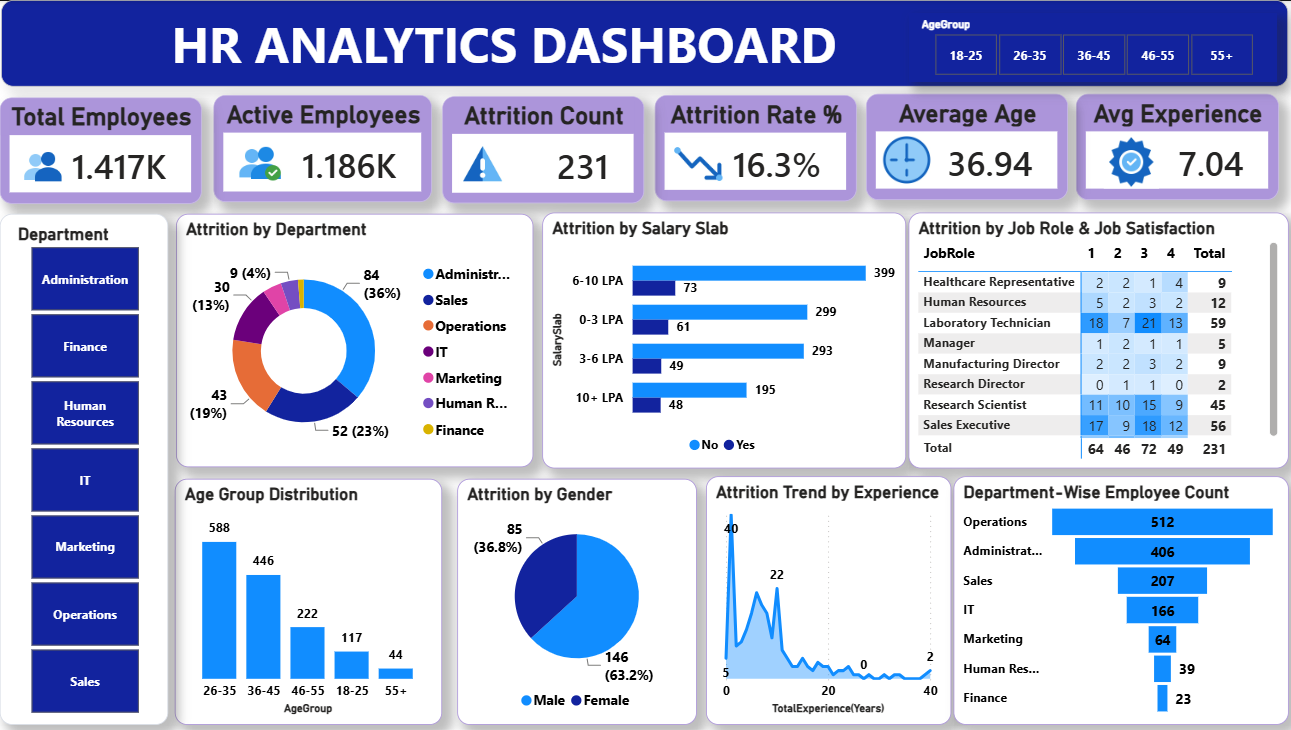

What the dashboard file says about the page in this screenshot:
{"tool":"powerbi","page":{"name":"Page 1","canvas":[1280,720],"ordinal":0},"visuals":[{"type":"textbox","box":[10,0,1259,85],"z":0},{"type":"cardVisual","title":"Avg Experience","fields":{"Data":["Avg(HR_Analytics-4.YearsatCompany)"]},"box":[1061.4,91.7,198.1,103.9],"z":1000},{"type":"cardVisual","title":"Attrition Rate %","fields":{"Data":["select","HR_Analytics-4.Attrition Rate %"]},"box":[649,92.7,197.5,103.8],"z":2000},{"type":"cardVisual","title":"Average Age","fields":{"Data":["Avg(HR_Analytics-4.Age)"]},"box":[855.9,91.8,197.5,103.8],"z":3000},{"type":"cardVisual","title":"Active Employees","fields":{"Data":["CountNonNull(HR_Analytics-4.EmployeeCount)"]},"box":[217.8,92.7,213.8,105],"z":4000},{"type":"cardVisual","title":"Total Employees","fields":{"Data":["CountNonNull(HR_Analytics-4.EmpID)"]},"box":[9,95.2,197.5,103.8],"z":5000},{"type":"cardVisual","title":"Attrition Count","fields":{"Data":["Sum(HR_Analytics-4.AttritionCount)"]},"box":[441.5,94,197.5,105],"z":6000},{"type":"image","box":[24.5,143.1,51.4,44],"z":7000},{"type":"image","box":[239,127.7,48.8,68.8],"z":8000},{"type":"image","box":[457.8,134,47.5,52.5],"z":9000},{"type":"image","box":[665.3,134,53.8,50],"z":10000},{"type":"image","box":[868.4,129.3,55,53.8],"z":11000},{"type":"image","box":[1086.5,130.2,56.2,53.8],"z":12000},{"type":"donutChart","title":"Attrition by Department","fields":{"Category":["HR_Analytics-4.Department"],"Y":["Sum(HR_Analytics-4.AttritionCount)"]},"box":[181,209.1,349.7,248.2],"z":13000},{"type":"clusteredBarChart","title":"Attrition by Salary Slab","fields":{"Category":["HR_Analytics-4.SalarySlab"],"Y":["CountNonNull(HR_Analytics-4.EmpID)"],"Series":["HR_Analytics-4.Attrition"]},"box":[539.3,207.9,355.8,250.7],"z":14000},{"type":"pivotTable","title":"Attrition by Job Role & Job Satisfaction","fields":{"Rows":["HR_Analytics-4.JobRole"],"Values":["Sum(HR_Analytics-4.AttritionCount)"],"Columns":["HR_Analytics-4.JobSatisfaction"]},"box":[897.6,207.9,371.7,250.7],"z":15000},{"type":"columnChart","title":"Age Group Distribution","fields":{"Category":["HR_Analytics-4.AgeGroup"],"Y":["Sum(HR_Analytics-4.EmployeeCount)"]},"box":[179.8,468.3,261.7,240.9],"z":16000},{"type":"pieChart","title":"Attrition by Gender","fields":{"Category":["HR_Analytics-4.Gender"],"Y":["Sum(HR_Analytics-4.AttritionCount)"]},"box":[456.1,468.3,234.8,240.9],"z":17000},{"type":"areaChart","title":"Attrition Trend by Experience","fields":{"Category":["HR_Analytics-4.TotalExperience(Years)"],"Y2":["Sum(HR_Analytics-4.AttritionCount)"]},"box":[699.5,465.9,239.7,243.3],"z":18000},{"type":"funnel","title":"Department-Wise Employee Count","fields":{"Category":["HR_Analytics-4.Department"],"Y":["CountNonNull(HR_Analytics-4.EmpID)"]},"box":[941.6,465.9,327.7,243.3],"z":19000},{"type":"slicer","fields":{"Values":["HR_Analytics-4.Department"]},"box":[9,209,165,500],"z":20000},{"type":"slicer","fields":{"Values":["HR_Analytics-4.AgeGroup"]},"box":[898,12,361,68],"z":21000}]}

Visuals, with their boxes in screenshot pixels (x1, y1, x2, y2), scaled from the page's 1280x720 canvas onto the 1291x730 screenshot:
textbox: (10, 0, 1280, 86)
"Avg Experience" cardVisual: (1071, 93, 1270, 198)
"Attrition Rate %" cardVisual: (655, 94, 854, 199)
"Average Age" cardVisual: (863, 93, 1062, 198)
"Active Employees" cardVisual: (220, 94, 435, 200)
"Total Employees" cardVisual: (9, 97, 208, 202)
"Attrition Count" cardVisual: (445, 95, 644, 202)
image: (25, 145, 77, 190)
image: (241, 129, 290, 199)
image: (462, 136, 510, 189)
image: (671, 136, 725, 187)
image: (876, 131, 931, 186)
image: (1096, 132, 1153, 187)
"Attrition by Department" donutChart: (183, 212, 535, 464)
"Attrition by Salary Slab" clusteredBarChart: (544, 211, 903, 465)
"Attrition by Job Role & Job Satisfaction" pivotTable: (905, 211, 1280, 465)
"Age Group Distribution" columnChart: (181, 475, 445, 719)
"Attrition by Gender" pieChart: (460, 475, 697, 719)
"Attrition Trend by Experience" areaChart: (706, 472, 947, 719)
"Department-Wise Employee Count" funnel: (950, 472, 1280, 719)
slicer - HR_Analytics-4.Department: (9, 212, 175, 719)
slicer - HR_Analytics-4.AgeGroup: (906, 12, 1270, 81)
